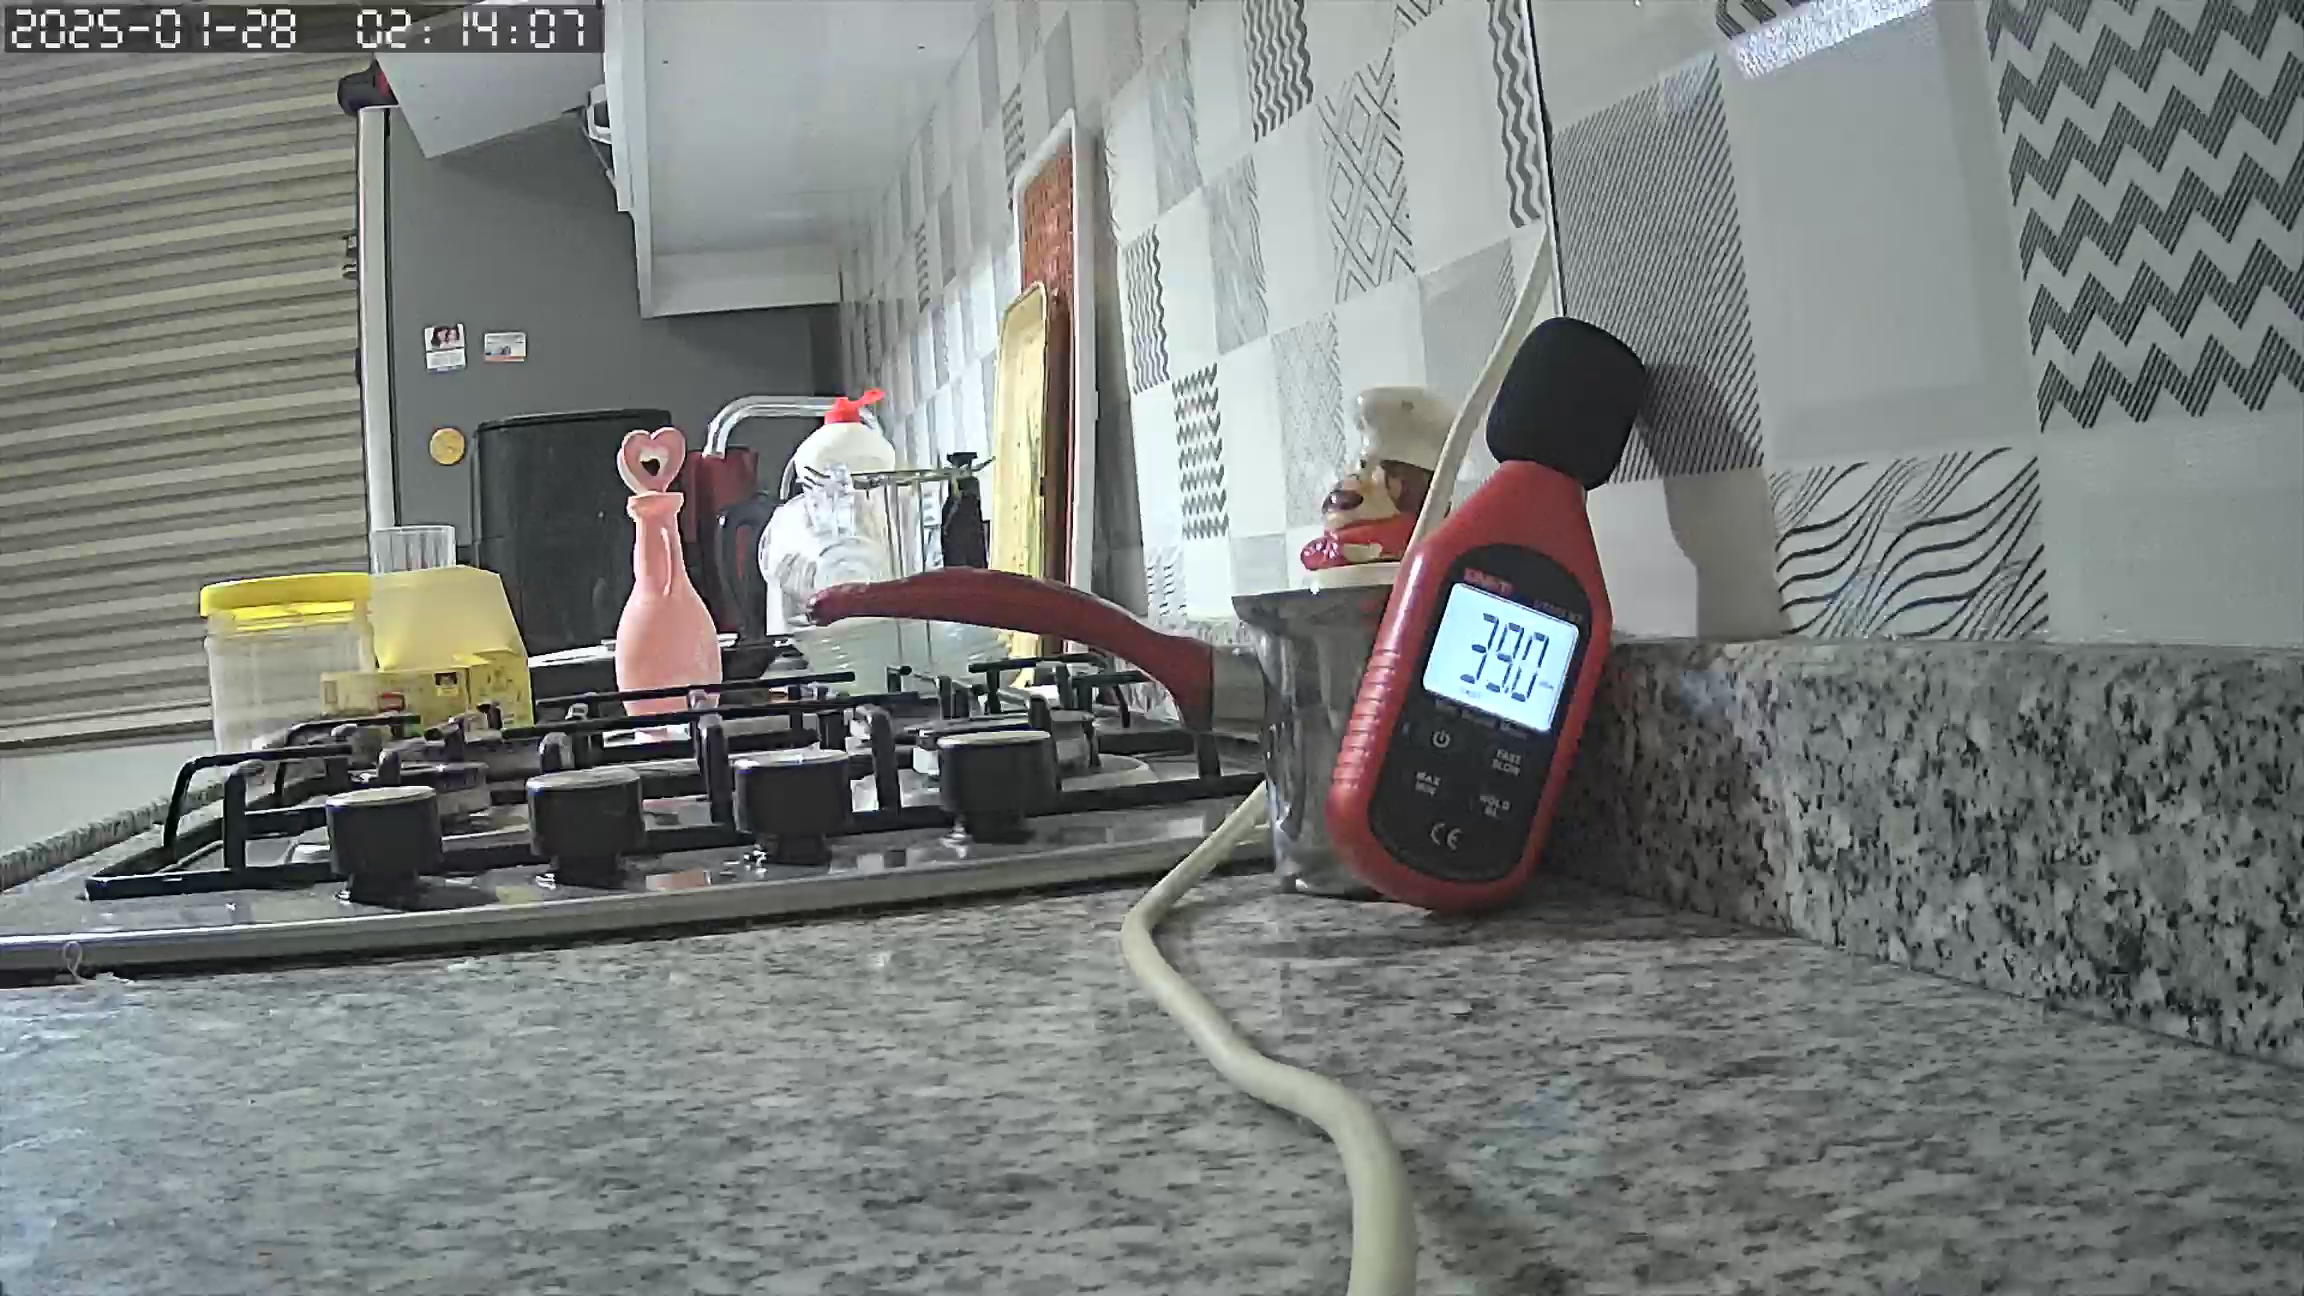screen: (1426, 581, 1578, 739)
